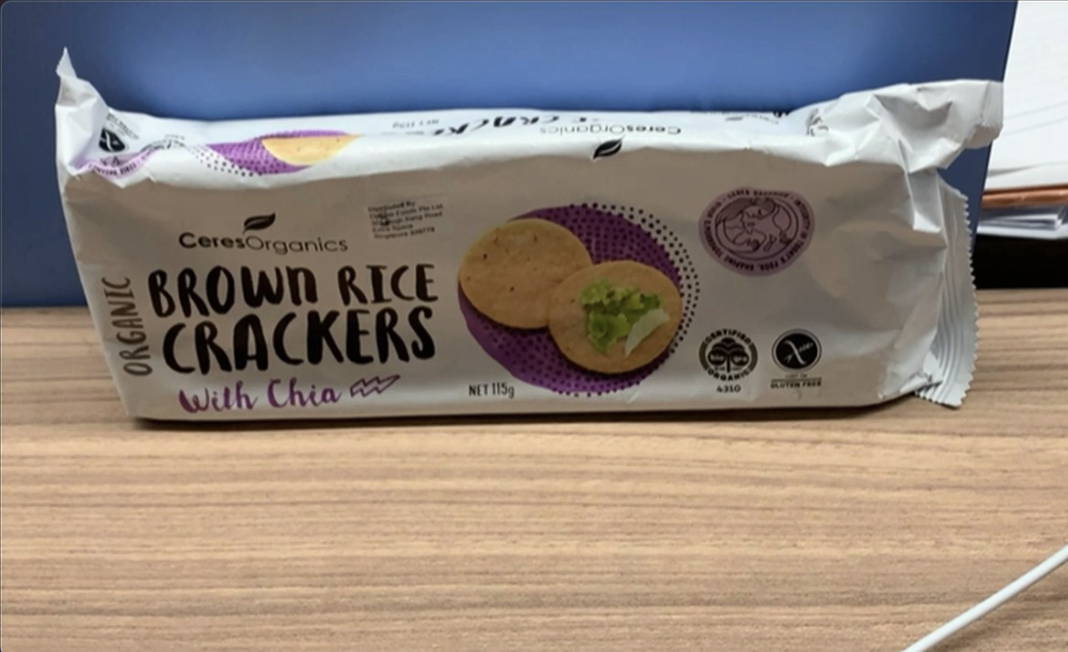crackers_150g: (106, 144, 848, 396)
